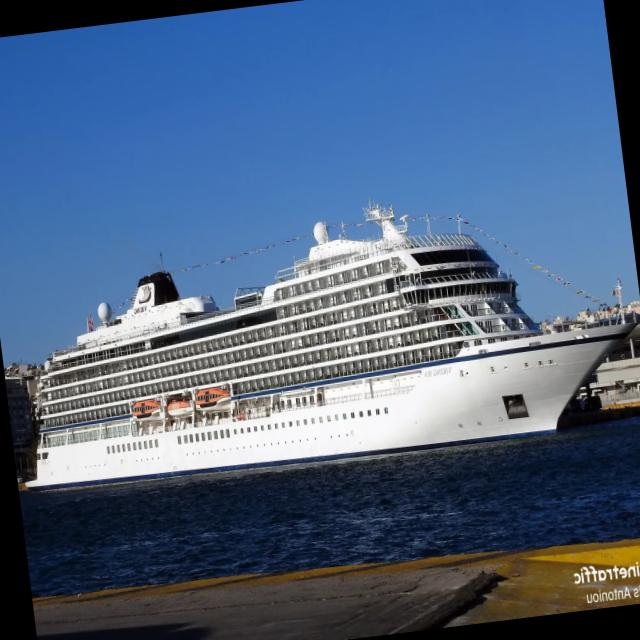Cruise: (29, 202, 640, 488)
